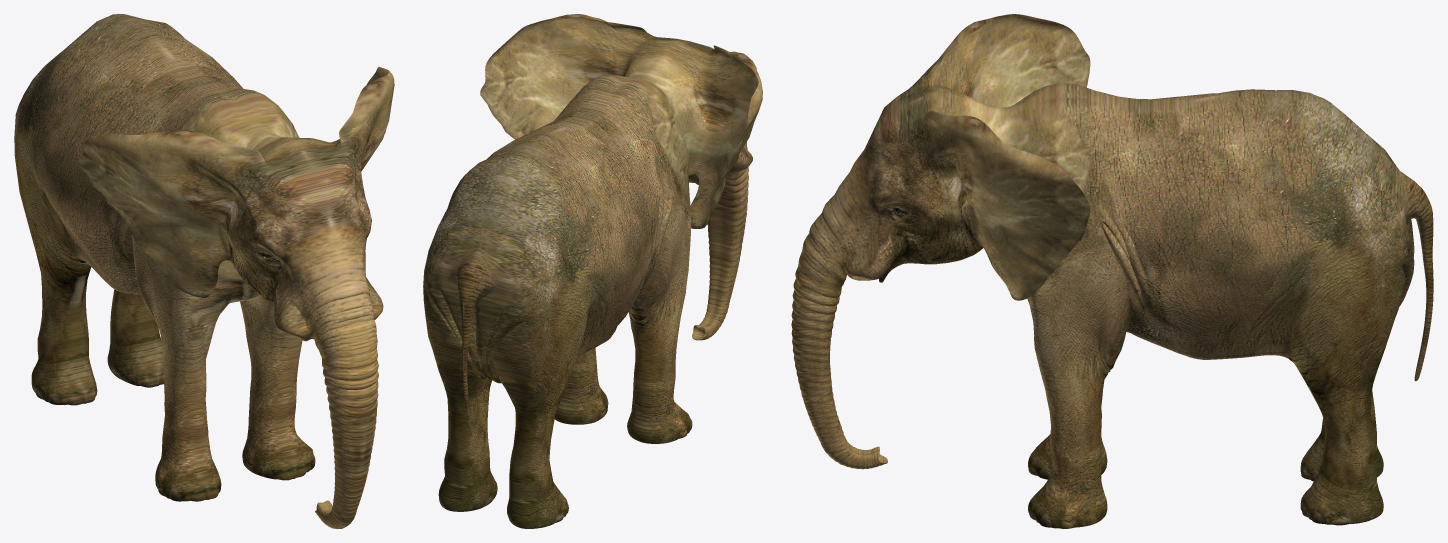
Rendered from elefante2.obj.
The picture shows the model from 3 angles, left to right: view 1: azimuth 30°, elevation 25°; view 2: azimuth 150°, elevation 25°; view 3: azimuth 270°, elevation 25°; orthographic projection. The views are drawn at different scales.
Parts seen in each view (by area): view 1: MainEleM; view 2: MainEleM; view 3: MainEleM.
Part boxes in pixels (x1,y1,x2,y2): MainEleM: [14, 14, 394, 528]; MainEleM: [423, 14, 762, 528]; MainEleM: [791, 14, 1433, 528].
Size of the model in its own units: 0.1093 by 0.1433 by 0.1987.
1 material, 1 textured.
